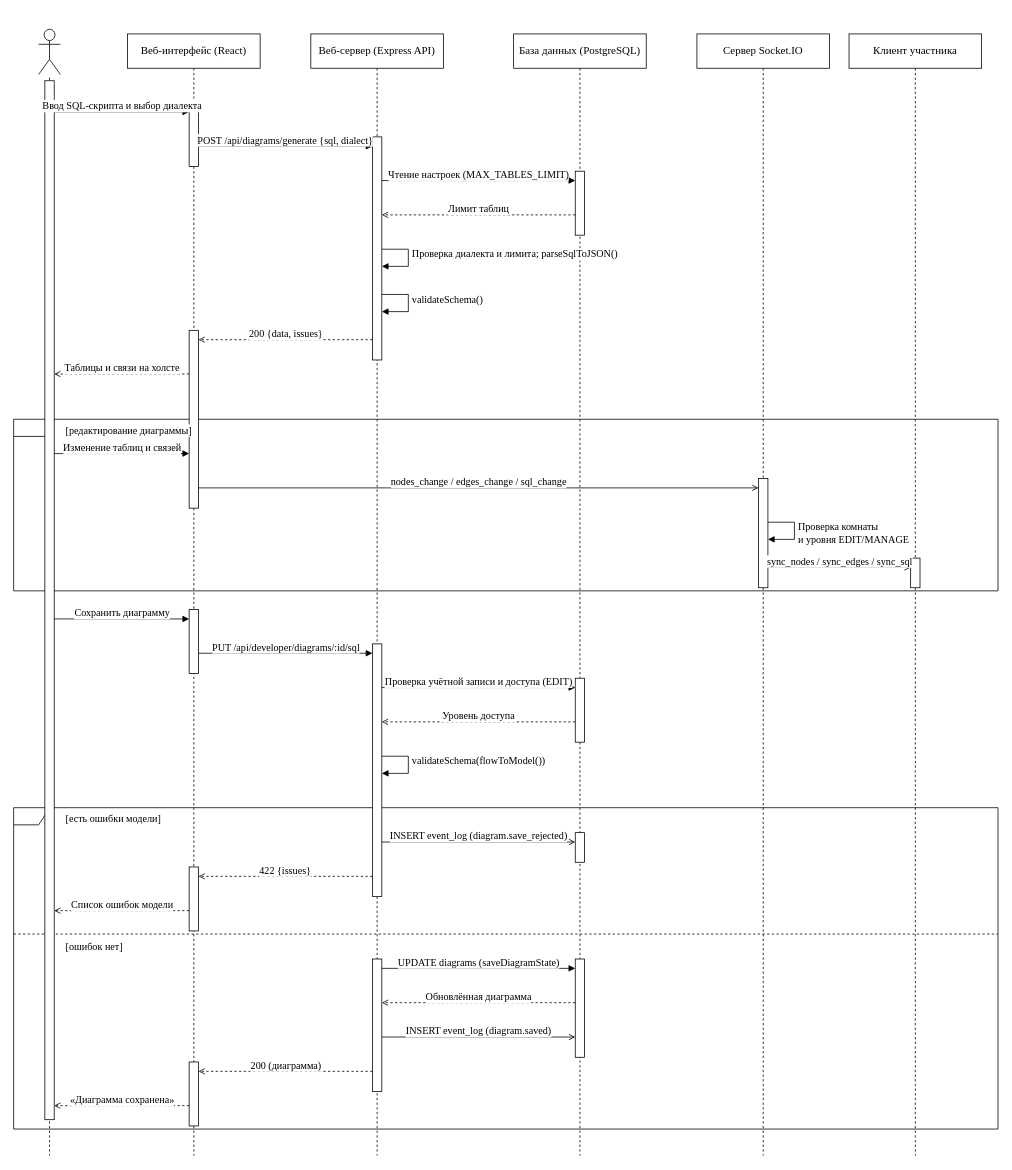
This 1012x1170 diagram has some shape labels left out. Each missing label, with the box of its shape:
alt: (13, 807, 998, 1129)
loop: (13, 418, 998, 591)
Разработчик: (38, 28, 60, 74)
